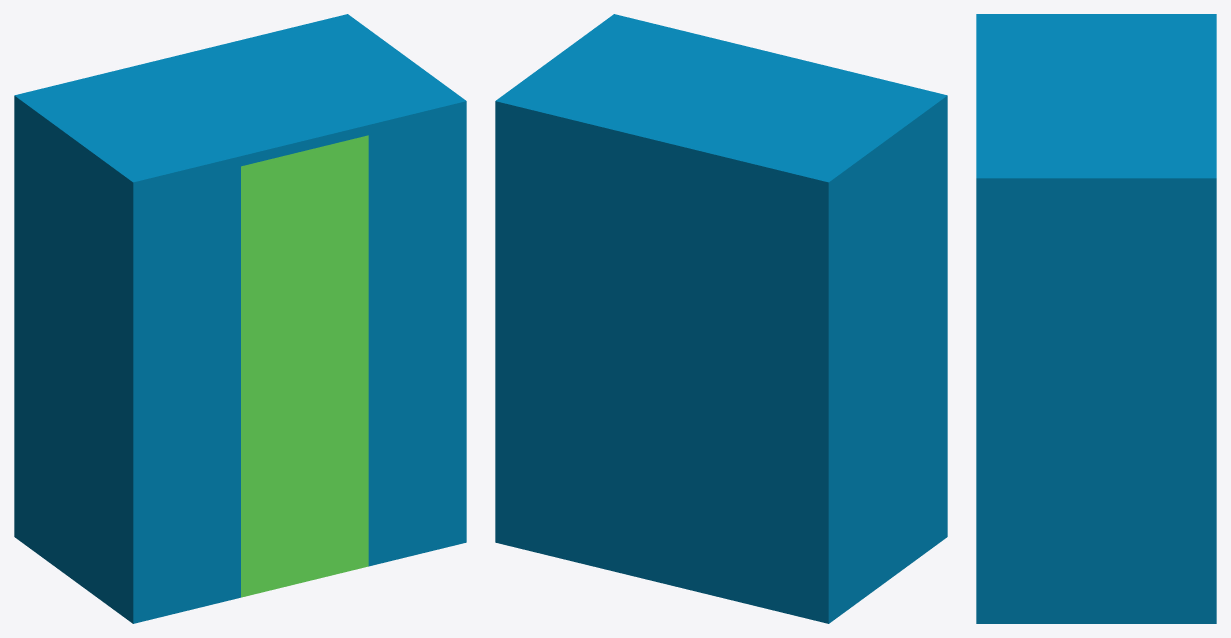
File: zombiegirl-1.obj
3 views of the same model, side by side, from view 1: azimuth 30°, elevation 25°; view 2: azimuth 150°, elevation 25°; view 3: azimuth 270°, elevation 25° (orthographic).
Bounding box in the file's own units: 3.4 × 4.3 × 2.1.
Materials: 1 (1 with a texture image).
